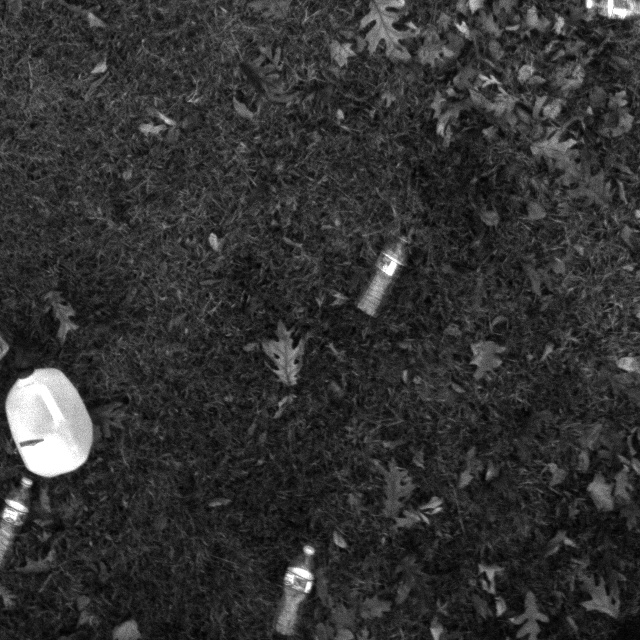bottle: (270, 535, 329, 637), (350, 228, 416, 315)
can: (0, 365, 100, 484)
